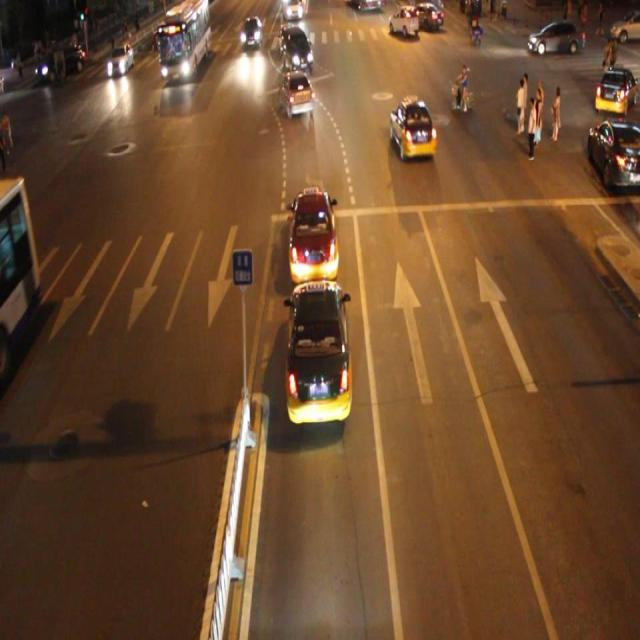car: (285, 276, 352, 420), (287, 188, 339, 284), (390, 96, 435, 160), (279, 70, 314, 117), (280, 28, 314, 75)
van: (1, 176, 42, 368), (159, 1, 211, 78)
